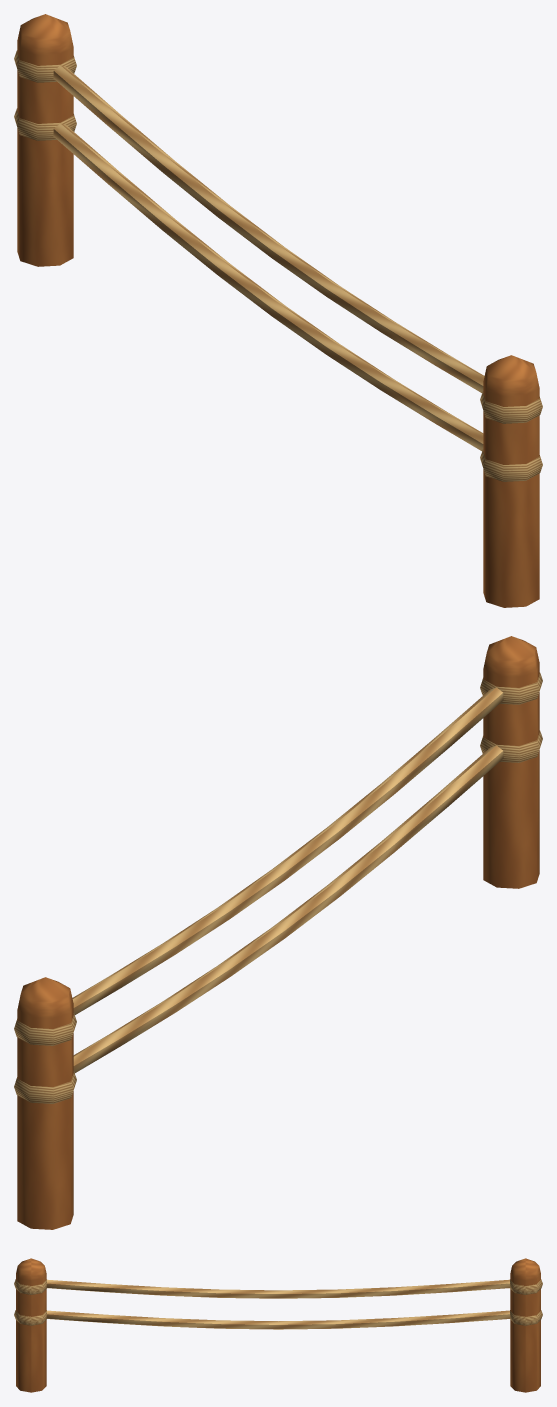
The model's file is Kit_FenceSection.obj.
The picture shows the model from 3 angles, top to bottom: view 1: azimuth 30°, elevation 25°; view 2: azimuth 150°, elevation 25°; view 3: azimuth 270°, elevation 25°; orthographic projection. The views are drawn at different scales.
Parts seen in each view (by area): view 1: Kit_FenceSection; view 2: Kit_FenceSection; view 3: Kit_FenceSection.
Boxes of the visible parts, x1,y1,x2,y2 form: Kit_FenceSection: (14, 14, 542, 607); Kit_FenceSection: (14, 636, 542, 1229); Kit_FenceSection: (14, 1258, 542, 1392).
Bounding box in the file's own units: 1.12 × 4.56 × 17.12.
1 material, 1 textured.
